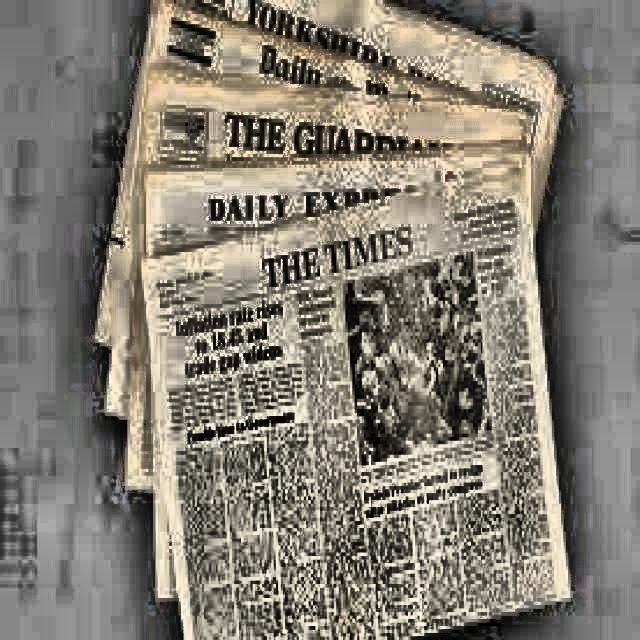Paper: (137, 151, 568, 637), (100, 0, 552, 427), (139, 143, 522, 598), (116, 56, 512, 479), (91, 0, 561, 343)
